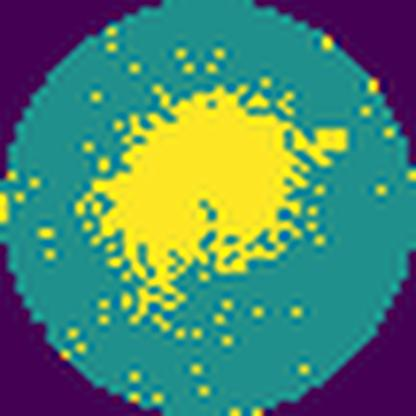Center: (92, 89, 287, 282)
